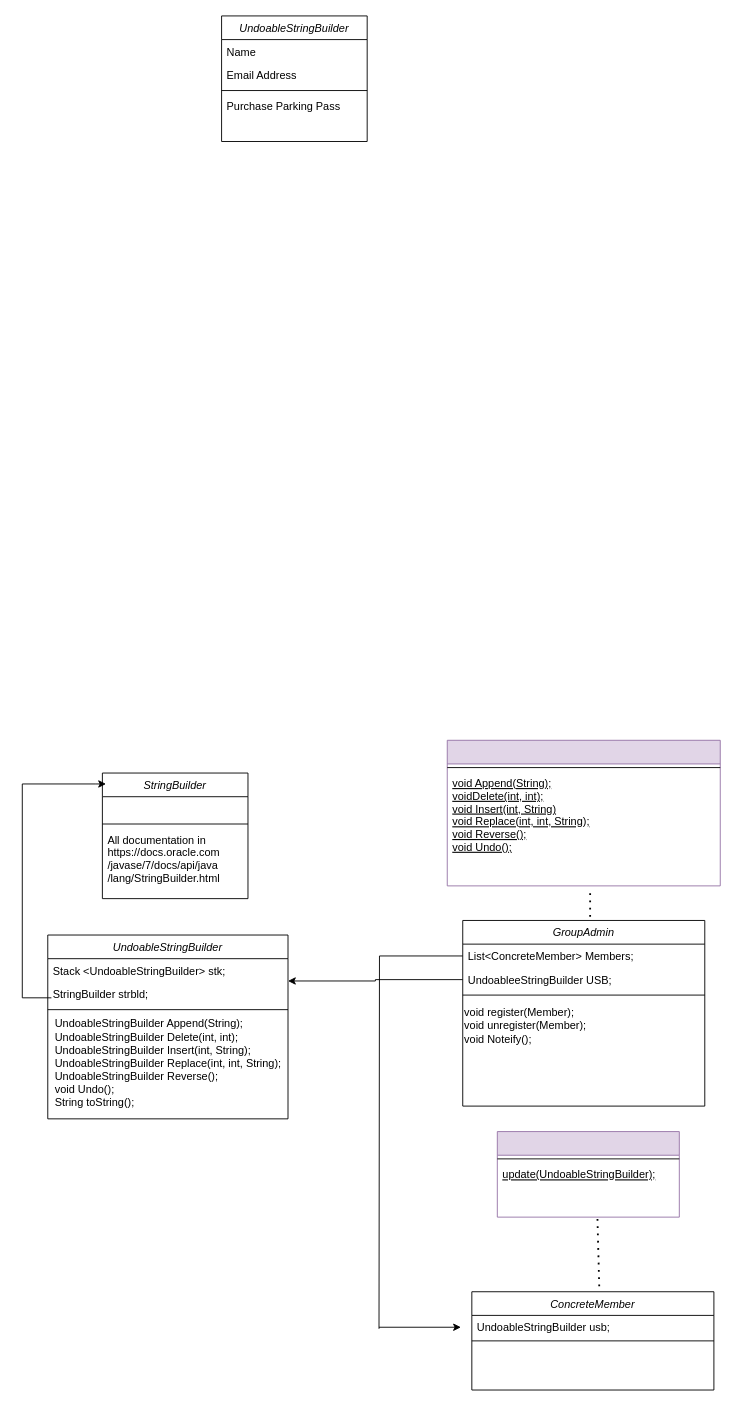
Image size: 736x1406. Some labels were removed from this diagram. Here are the shapes that lost their labels. From the top down, the box of each, then its label:
(446, 739, 720, 886): Sender *interface*
(496, 1131, 679, 1217): Member *Interface*
